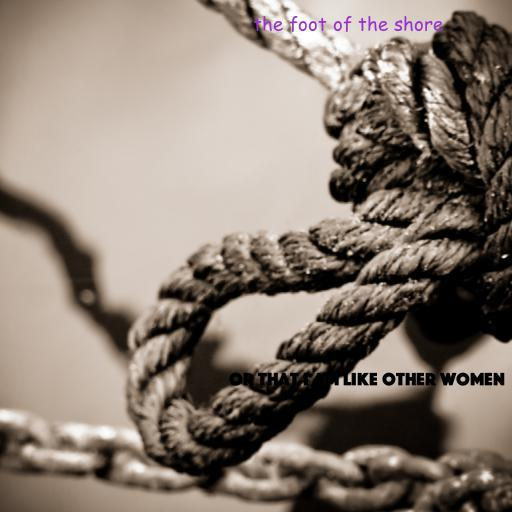Comic Sans MS: (253, 15, 443, 33)
Phosphate: (229, 372, 505, 386)
